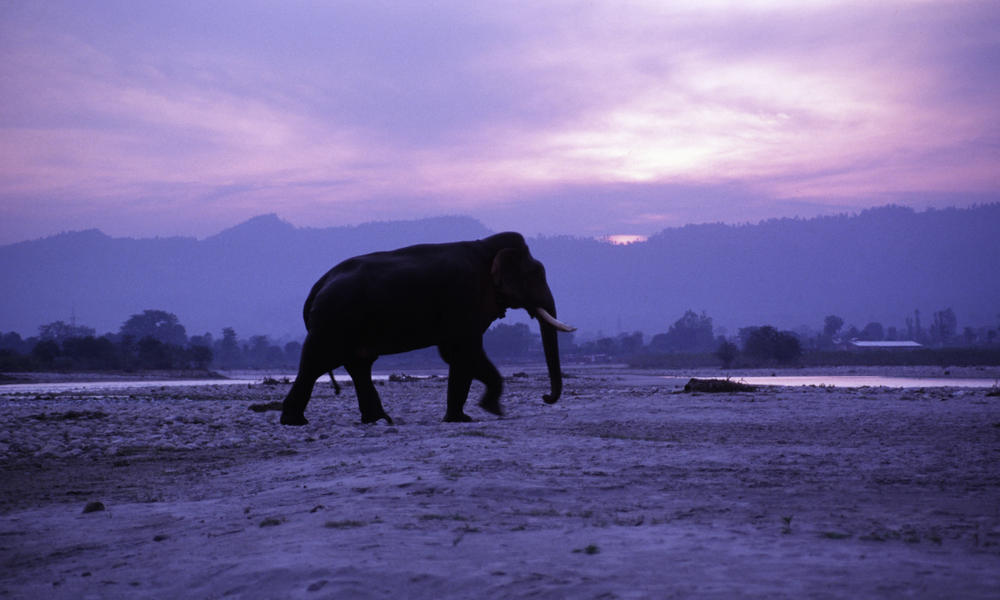Indian Elephant: (267, 219, 586, 434)
